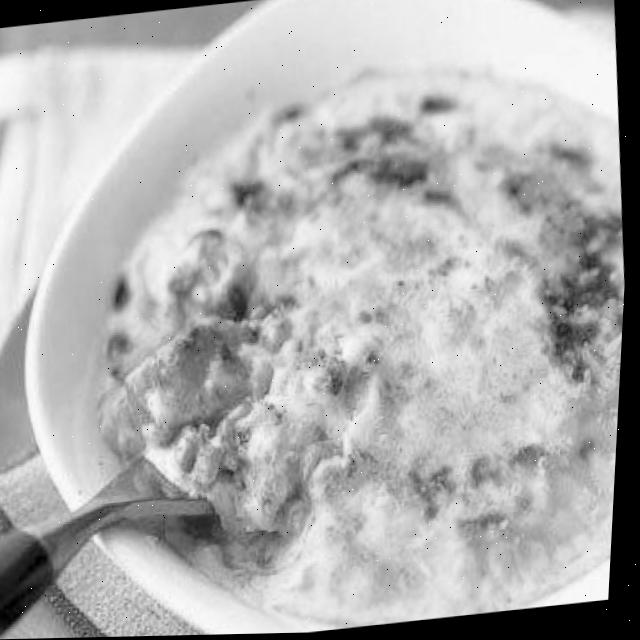米饭主食: (62, 29, 638, 638)
